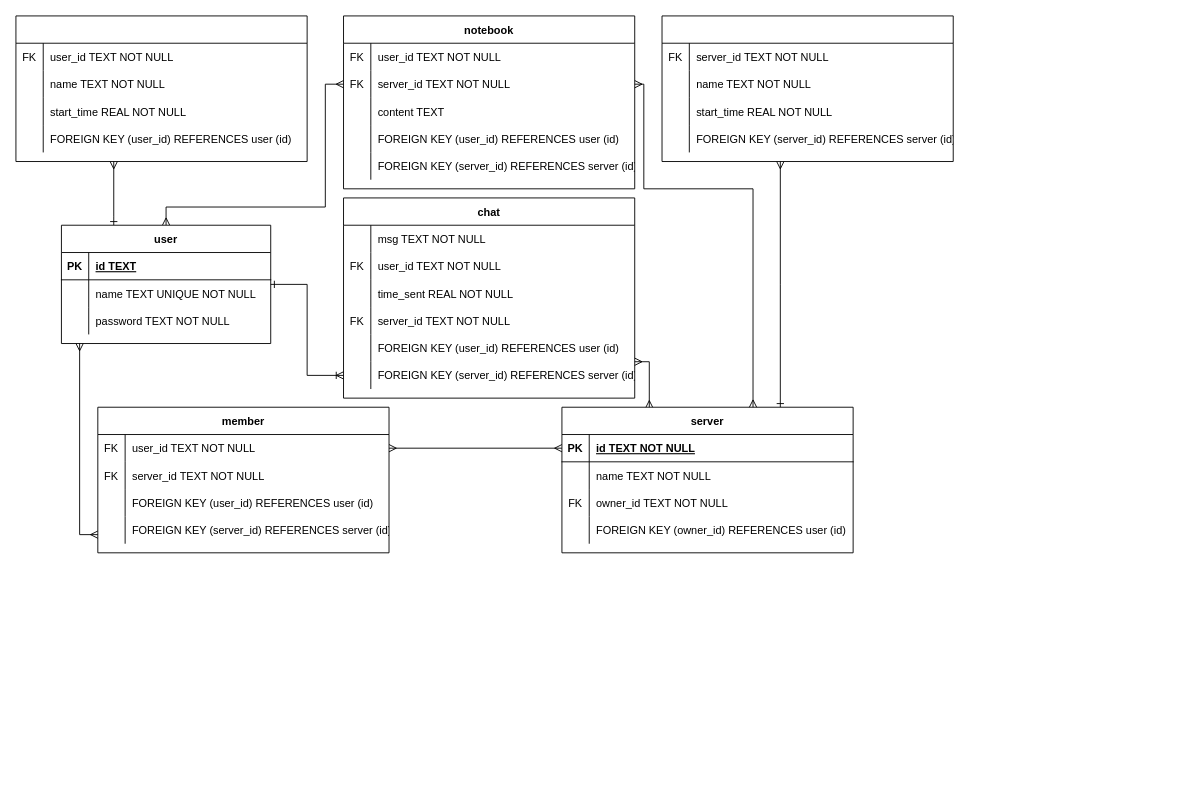
This 1197x787 diagram has some shape labels left out. The box of each missing label's shape, as (x1, y1, x2, y2) in pixels:
personal_event: (15, 15, 307, 162)
server_event: (661, 15, 953, 162)
